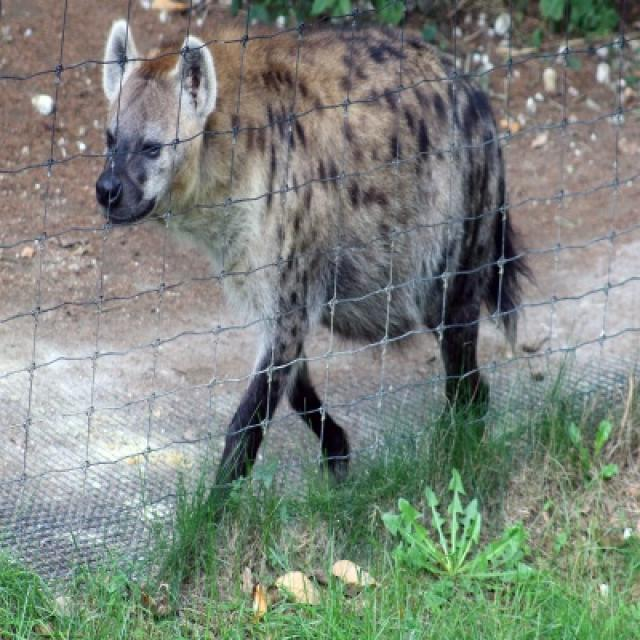hyena: (94, 3, 528, 486)
